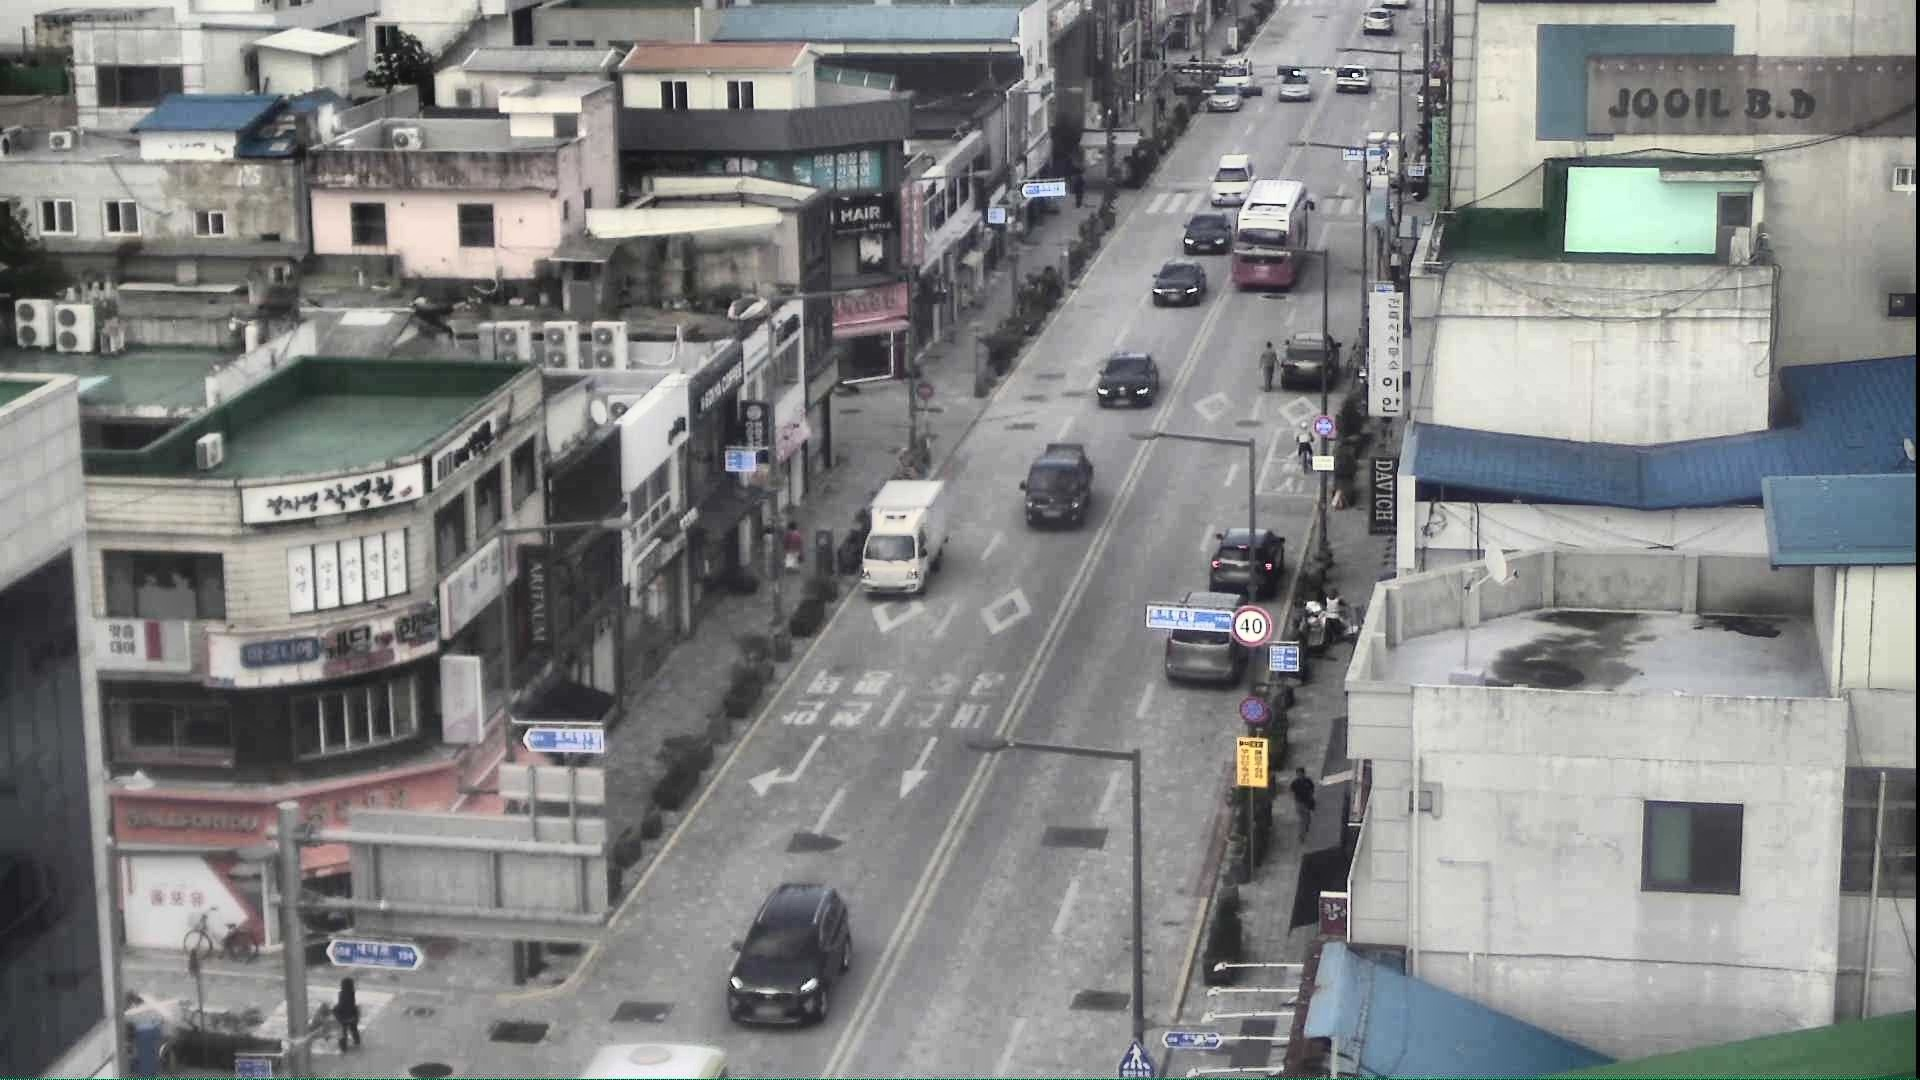jaywalk: (327, 975, 369, 1054), (1294, 421, 1313, 469), (1257, 340, 1276, 389)
sidewalk: (1283, 764, 1316, 843), (782, 518, 807, 576), (1325, 585, 1344, 640)
